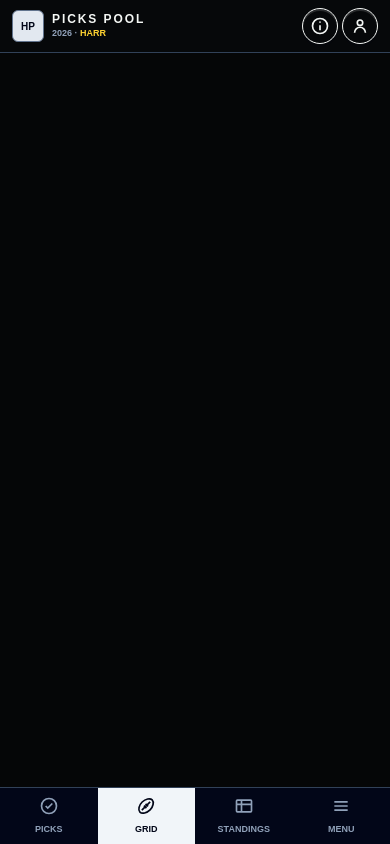
Scenario: AppNav menu › opens an anchored ordered flyout without a dark overlay
The width and height of the screenshot is (390, 844).
What coordinates should you click on to do the following:
click the button "Menu"
I would click on:
 (341, 816)
Its box is 292,788 -> 389,843.
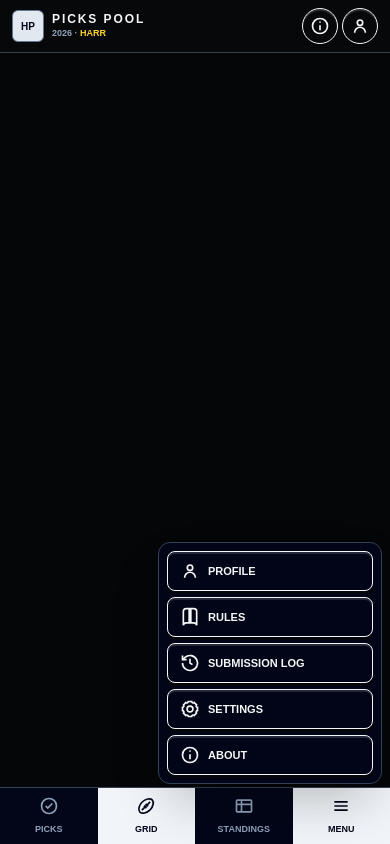
Result: the links read "Profile", "Rules", "Submission Log", "Settings", "About", in this order at 167,551 -> 373,591; 167,597 -> 373,637; 167,643 -> 373,683; 167,689 -> 373,729; 167,735 -> 373,775
